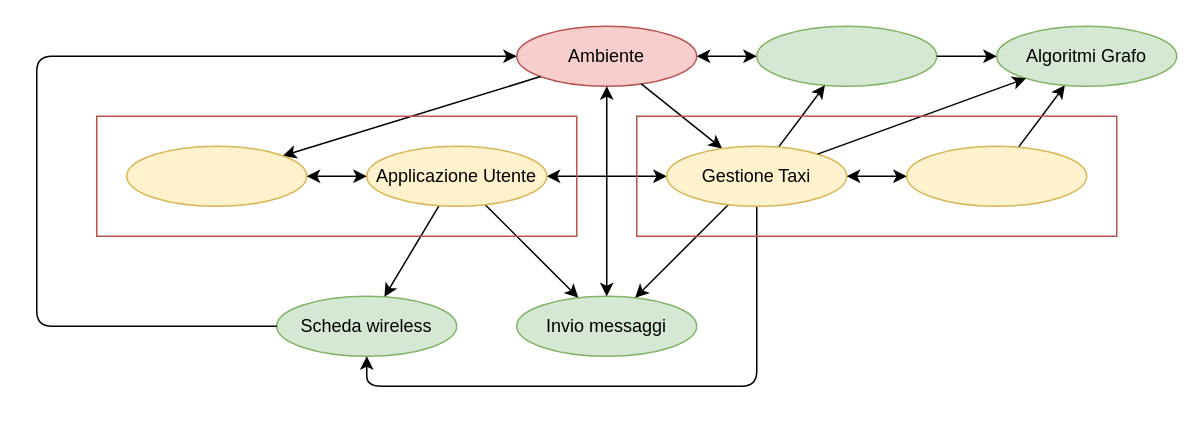
The diagram is 1203 pixels wide and 425 high, and some of its shapes have lost their labels. Each missing label, with the centre of its shape:
"Elezione" goes at [996,175].
"Mappa Città" goes at [846,55].
"Utente" goes at [216,175].
